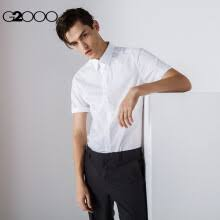F_shirt: (69, 44, 172, 152)
